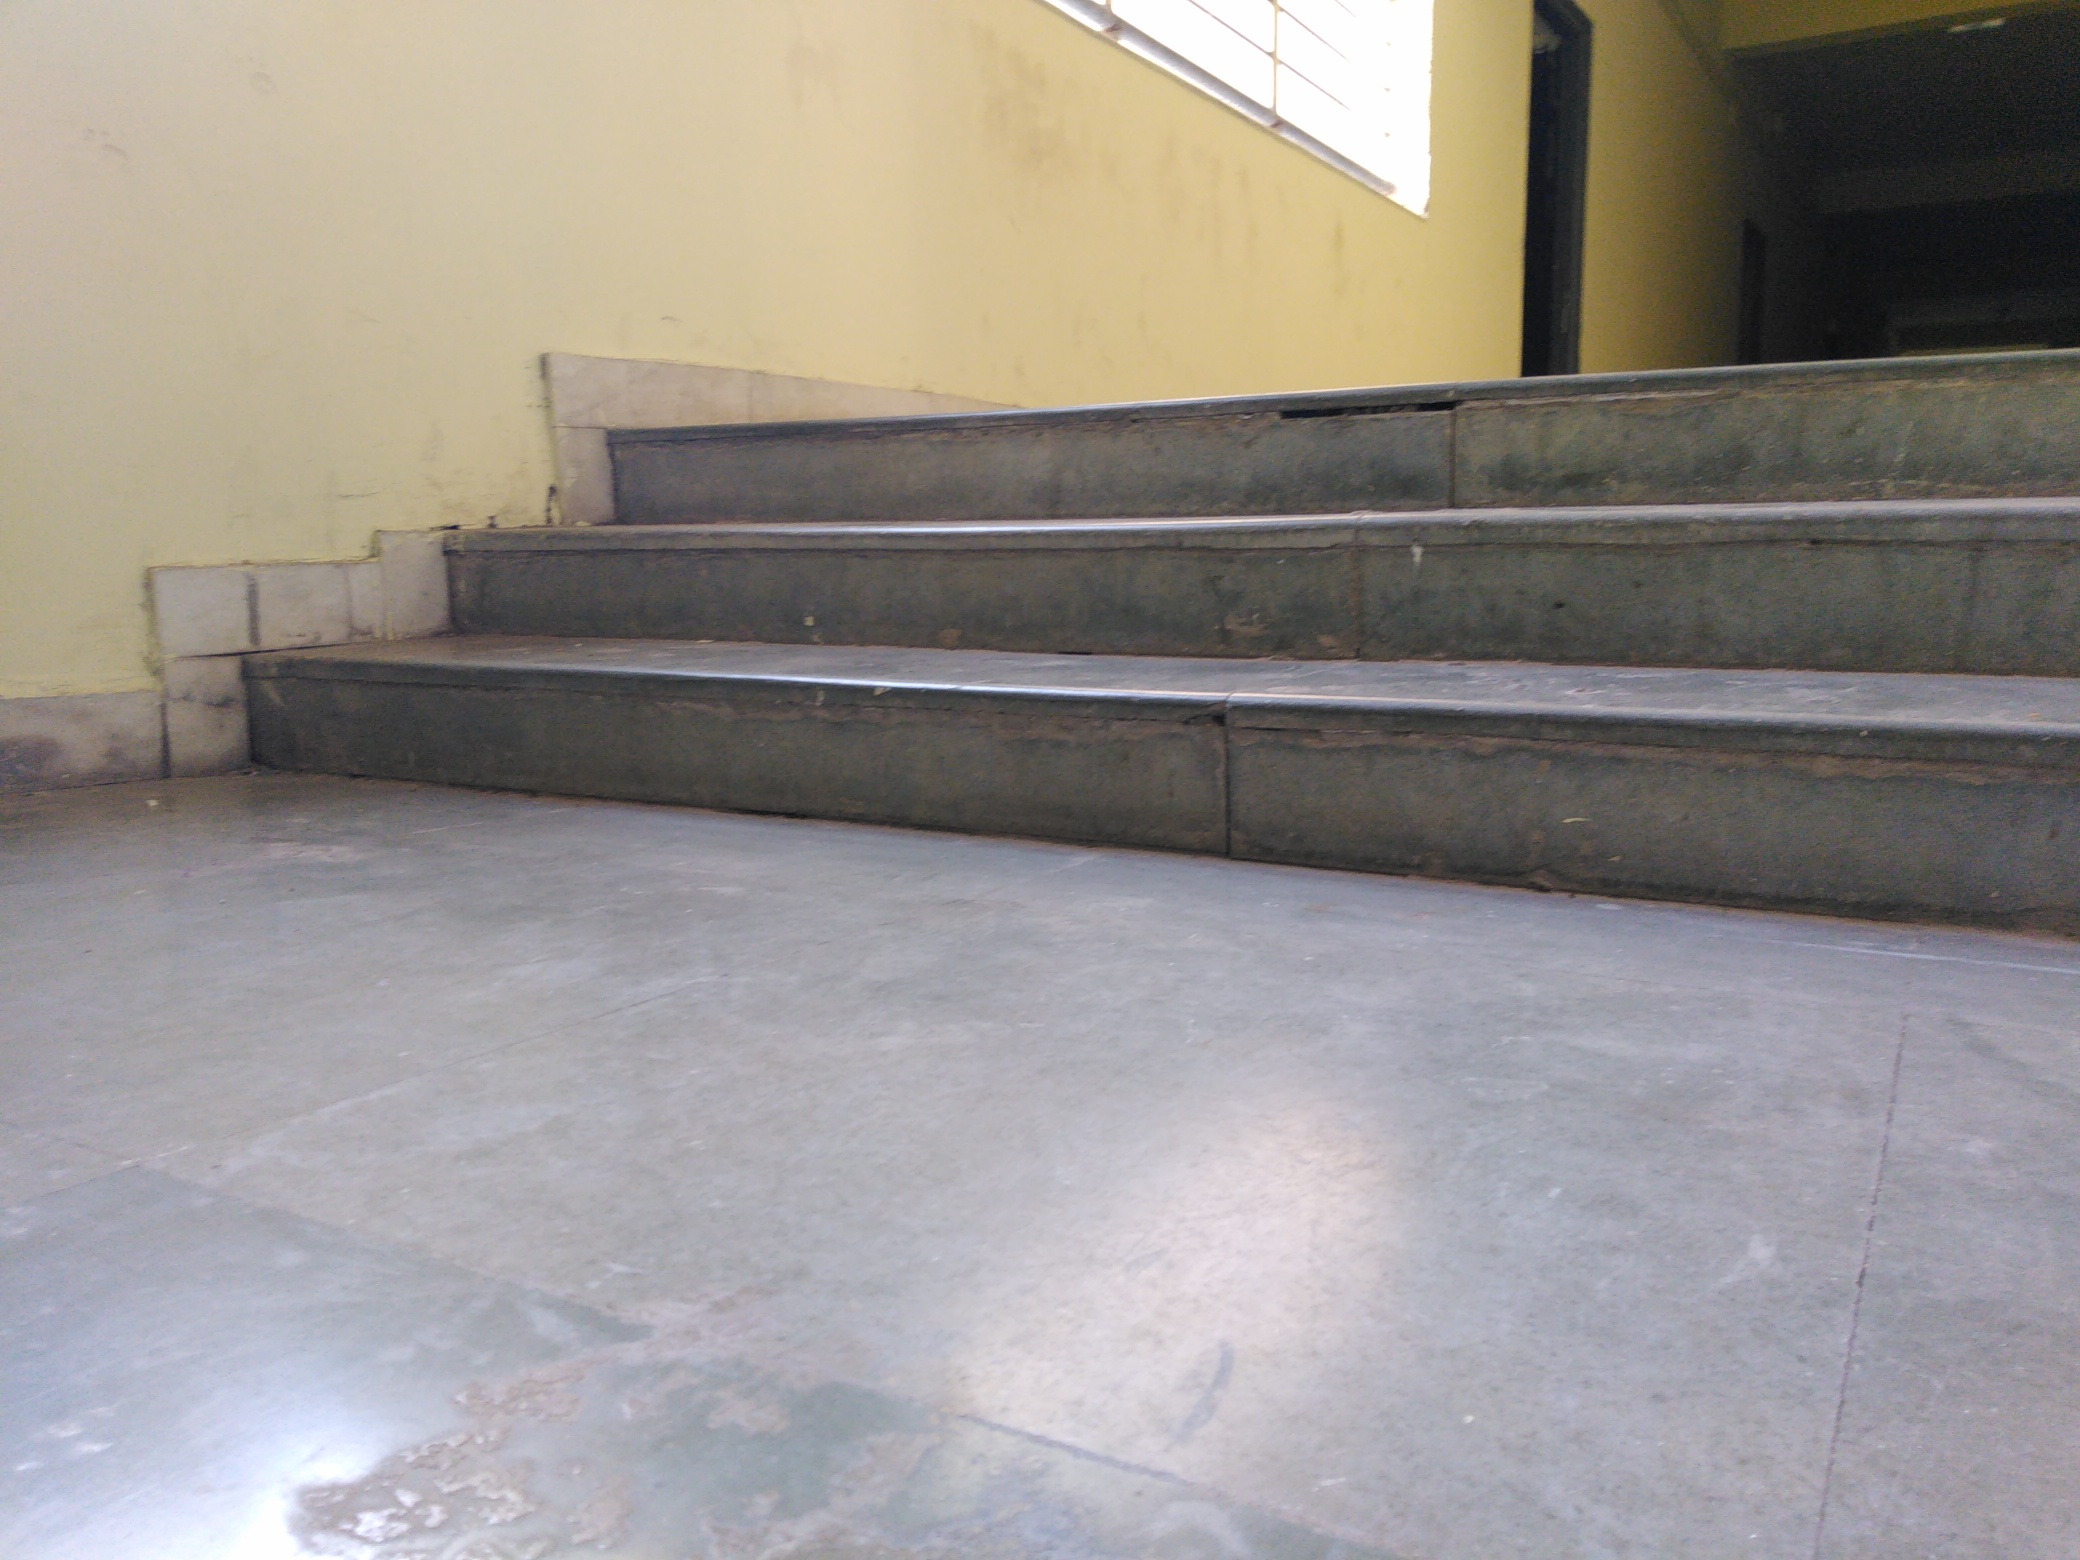stairs_up: (241, 344, 2075, 788)
